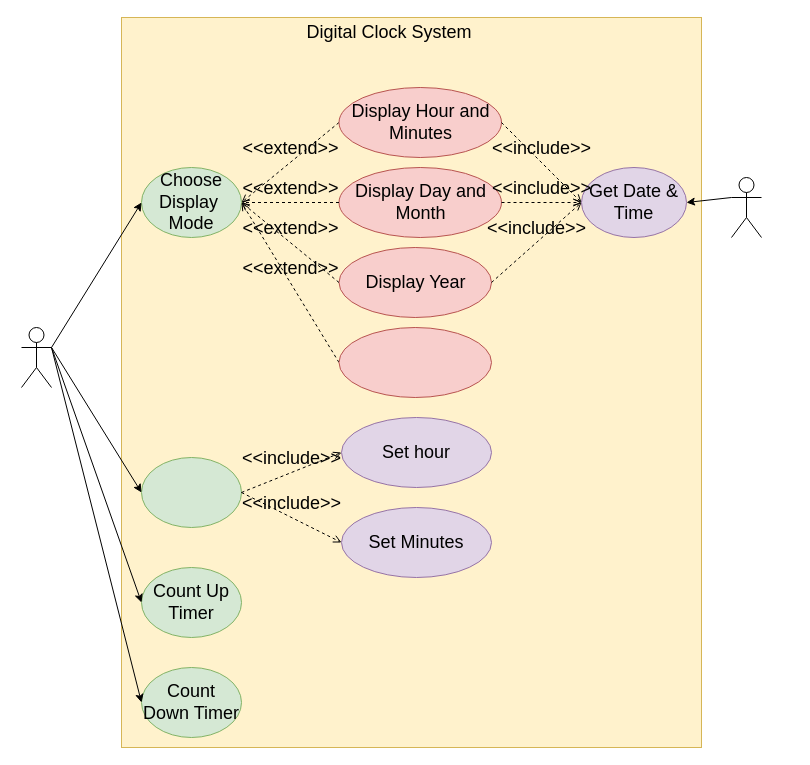
This 810x765 diagram has some shape labels left out. Each missing label, with the centre of its shape:
Display Temperature and Humidity: point (415, 362)
NTP Server: point (746, 207)
Set Alarm Clock: point (191, 492)
User: point (36, 357)
